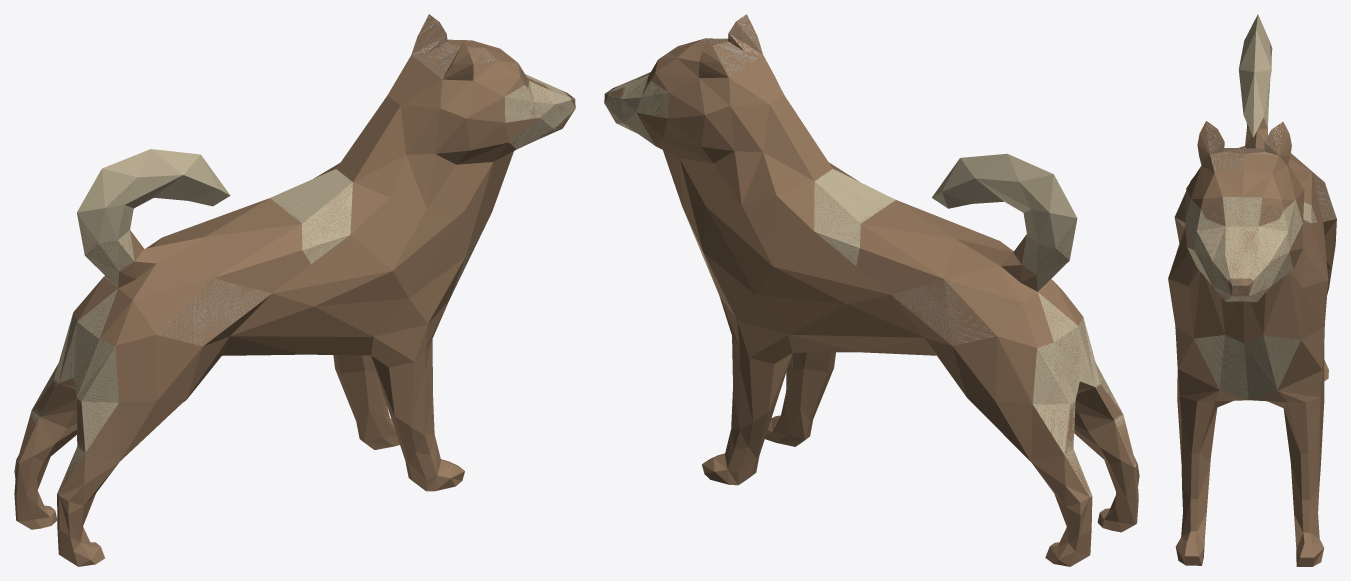
File: Doge.fbx
The picture shows the model from 3 angles, left to right: view 1: azimuth 30°, elevation 25°; view 2: azimuth 150°, elevation 25°; view 3: azimuth 270°, elevation 25°; orthographic projection. The views are drawn at different scales.
Visible parts, largest first — view 1: Model; view 2: Model; view 3: Model.
Boxes of the visible parts, bbox=[...] form: Model: bbox=[14, 14, 575, 566]; Model: bbox=[604, 14, 1139, 566]; Model: bbox=[1168, 14, 1336, 566].
Size of the model in its own units: 170 by 133 by 45.16.
